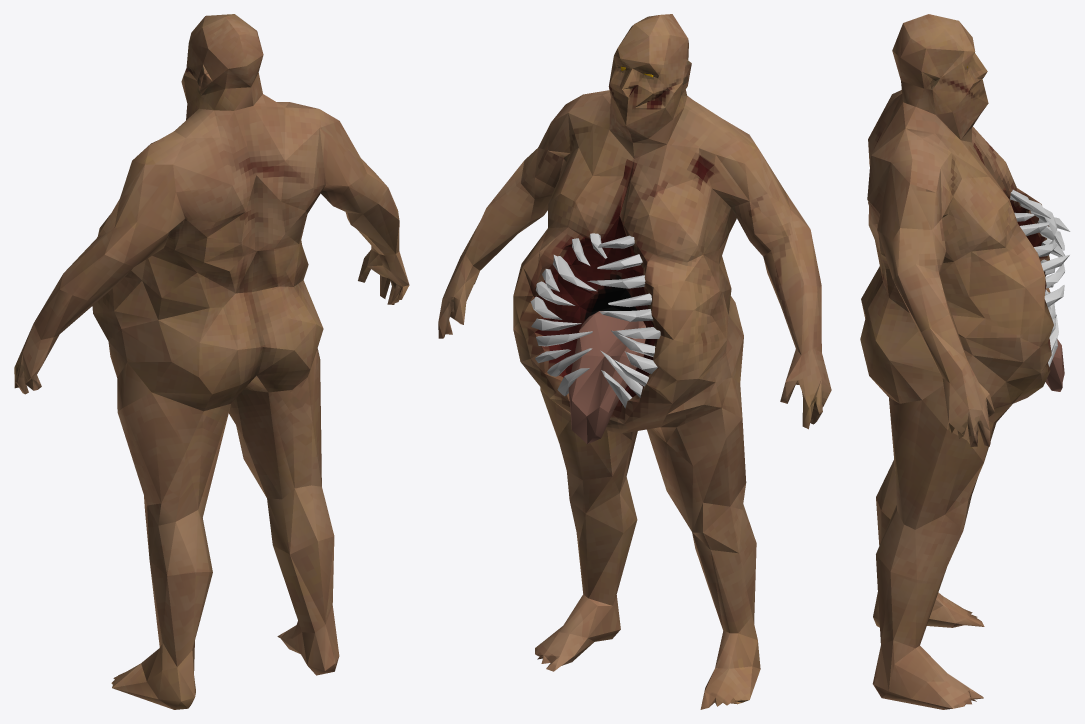
The model's file is GluttonMonsterTesting_take2.fbx.
3 views of the same model, side by side, from view 1: azimuth 30°, elevation 25°; view 2: azimuth 150°, elevation 25°; view 3: azimuth 270°, elevation 25° (orthographic). The views are drawn at different scales.
Parts seen in each view (by area): view 1: polySurface1; view 2: polySurface1; view 3: polySurface1.
Boxes of the visible parts, bbox=[...] form: polySurface1: bbox=[14, 14, 409, 709]; polySurface1: bbox=[438, 14, 831, 709]; polySurface1: bbox=[860, 14, 1070, 709].
Size of the model in its own units: 1.02 by 1.67 by 0.4938.
